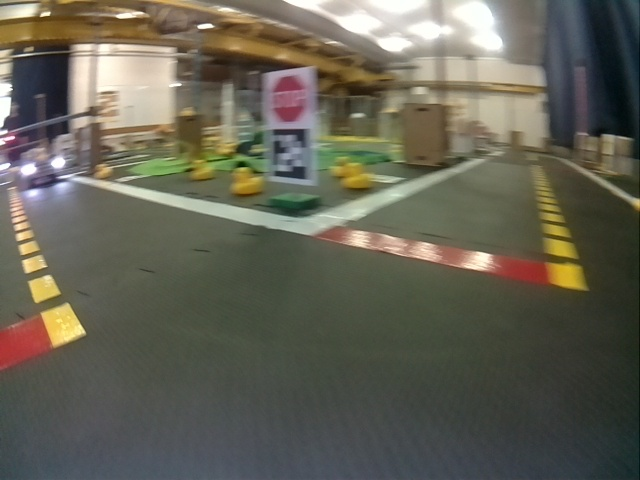Duckie: (230, 169, 263, 193), (346, 163, 370, 188), (191, 160, 211, 180), (329, 158, 347, 176), (95, 164, 112, 177)
Duckiebot: (20, 148, 64, 187)
QR code: (269, 130, 313, 181)
Stop sign: (264, 72, 314, 127)
